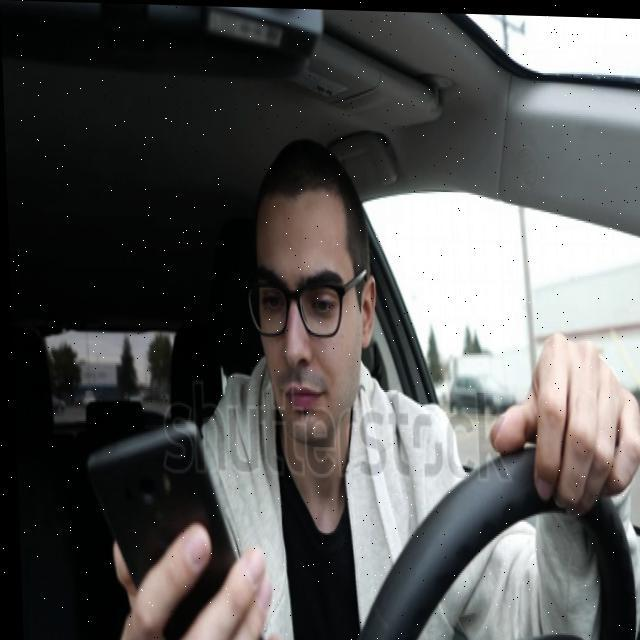PhoneCall: (81, 419, 236, 640)
